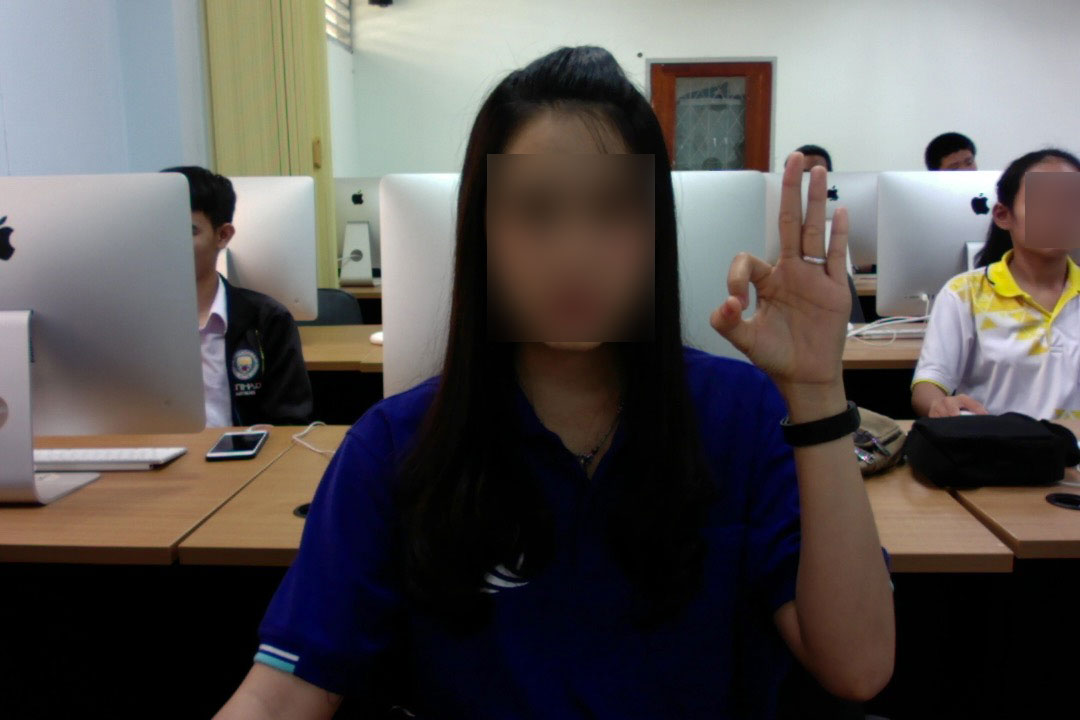for: (691, 144, 887, 429)
